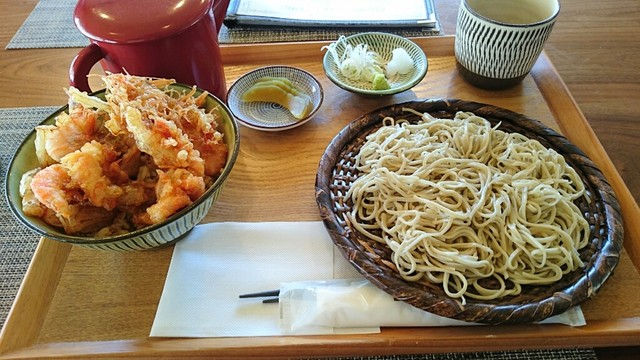Soba: (345, 113, 599, 296)
